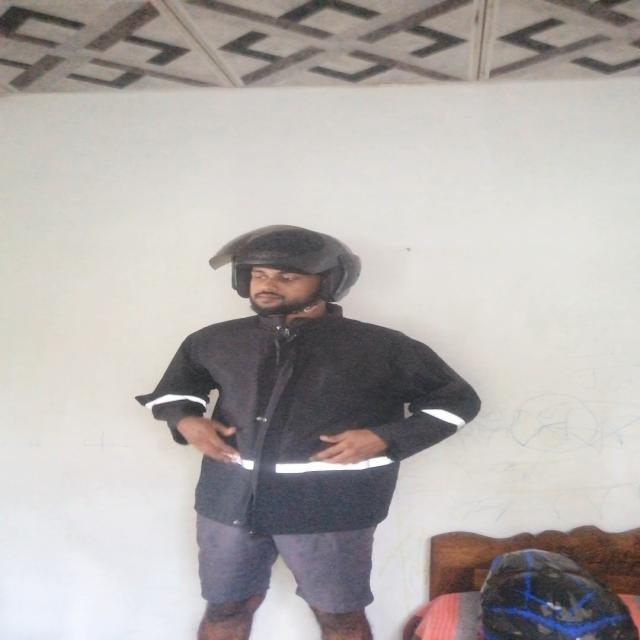Helmet_Wearer: (203, 221, 367, 318)
Jacket_Wearer: (151, 320, 482, 537)
Person: (149, 221, 472, 640)
